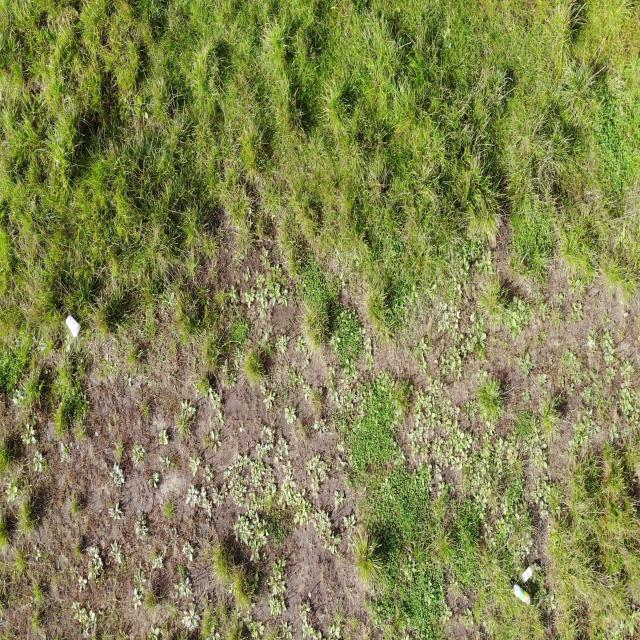rubbish: (64, 311, 81, 340), (513, 583, 531, 605), (520, 563, 538, 585)
